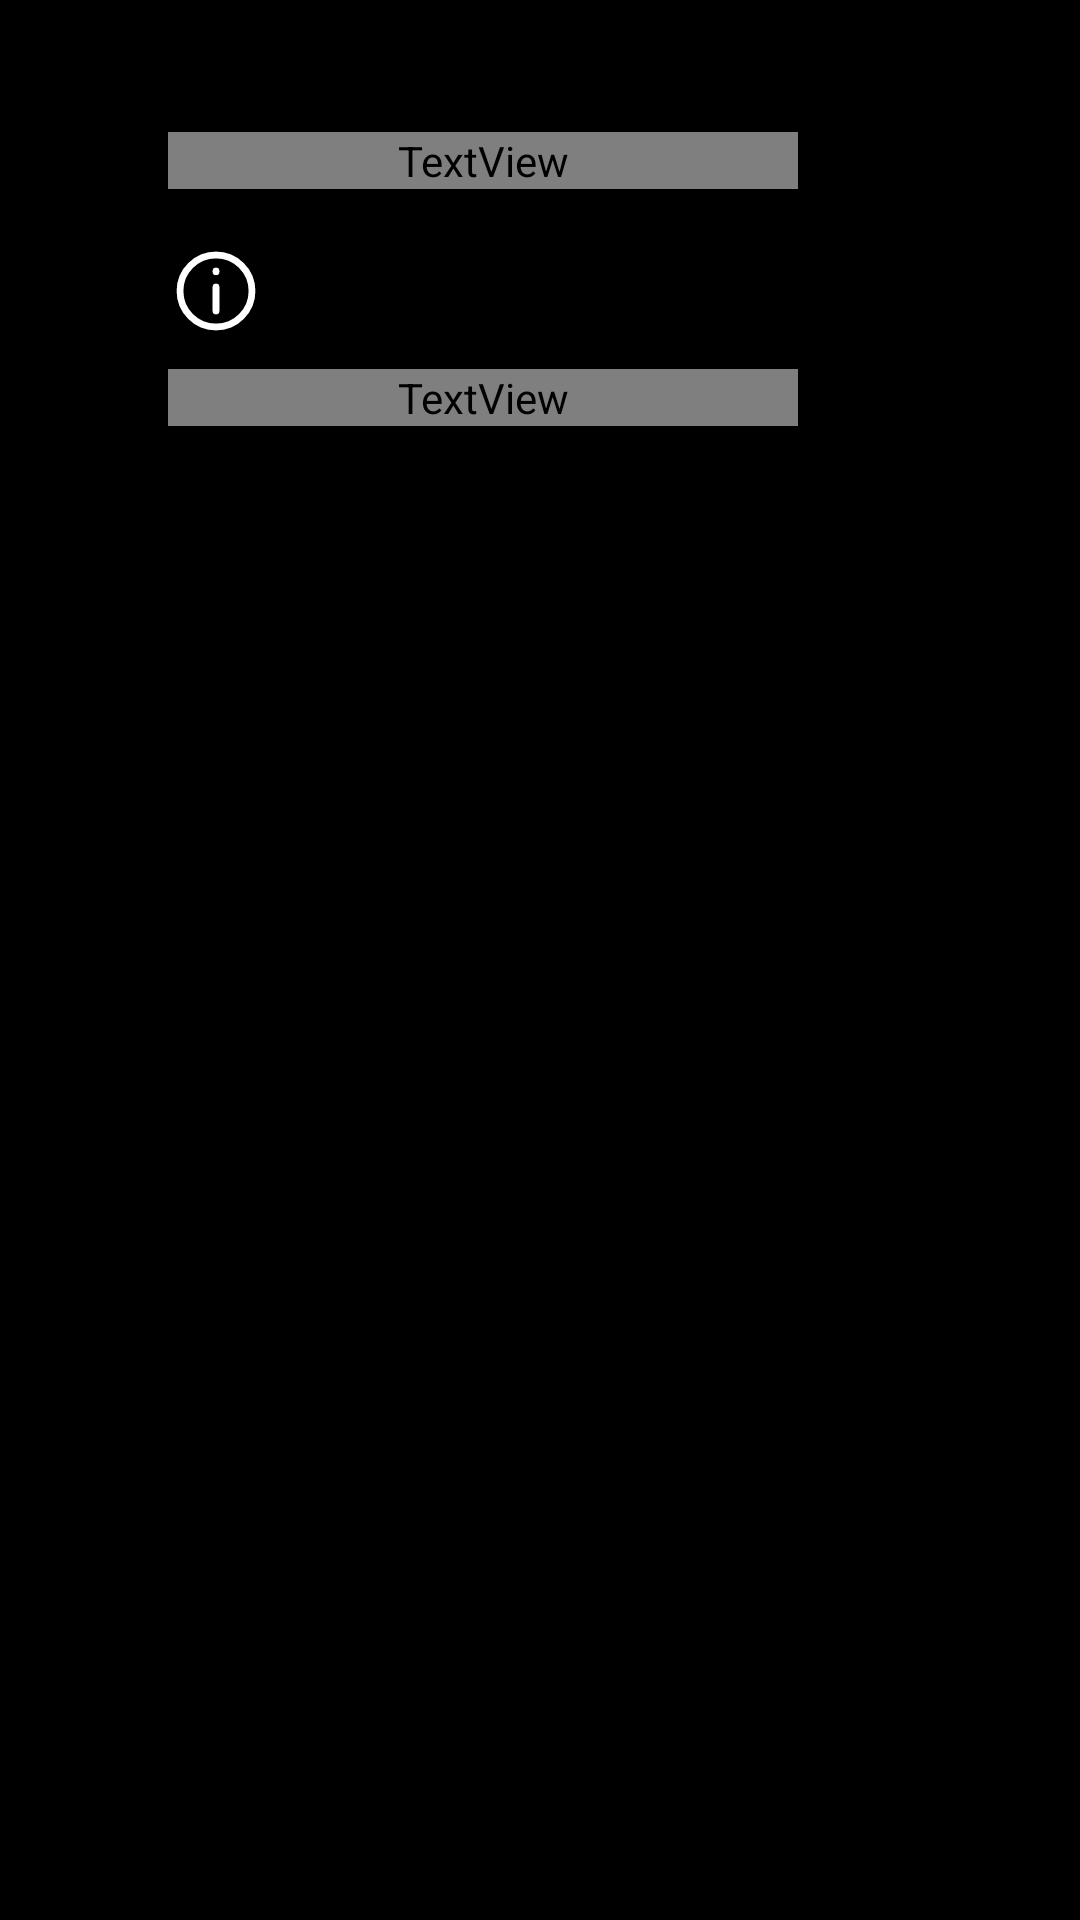

Icon click points for this 1080x1920 phone screenshot, format point (x, y):
settings info: point (216, 291)
